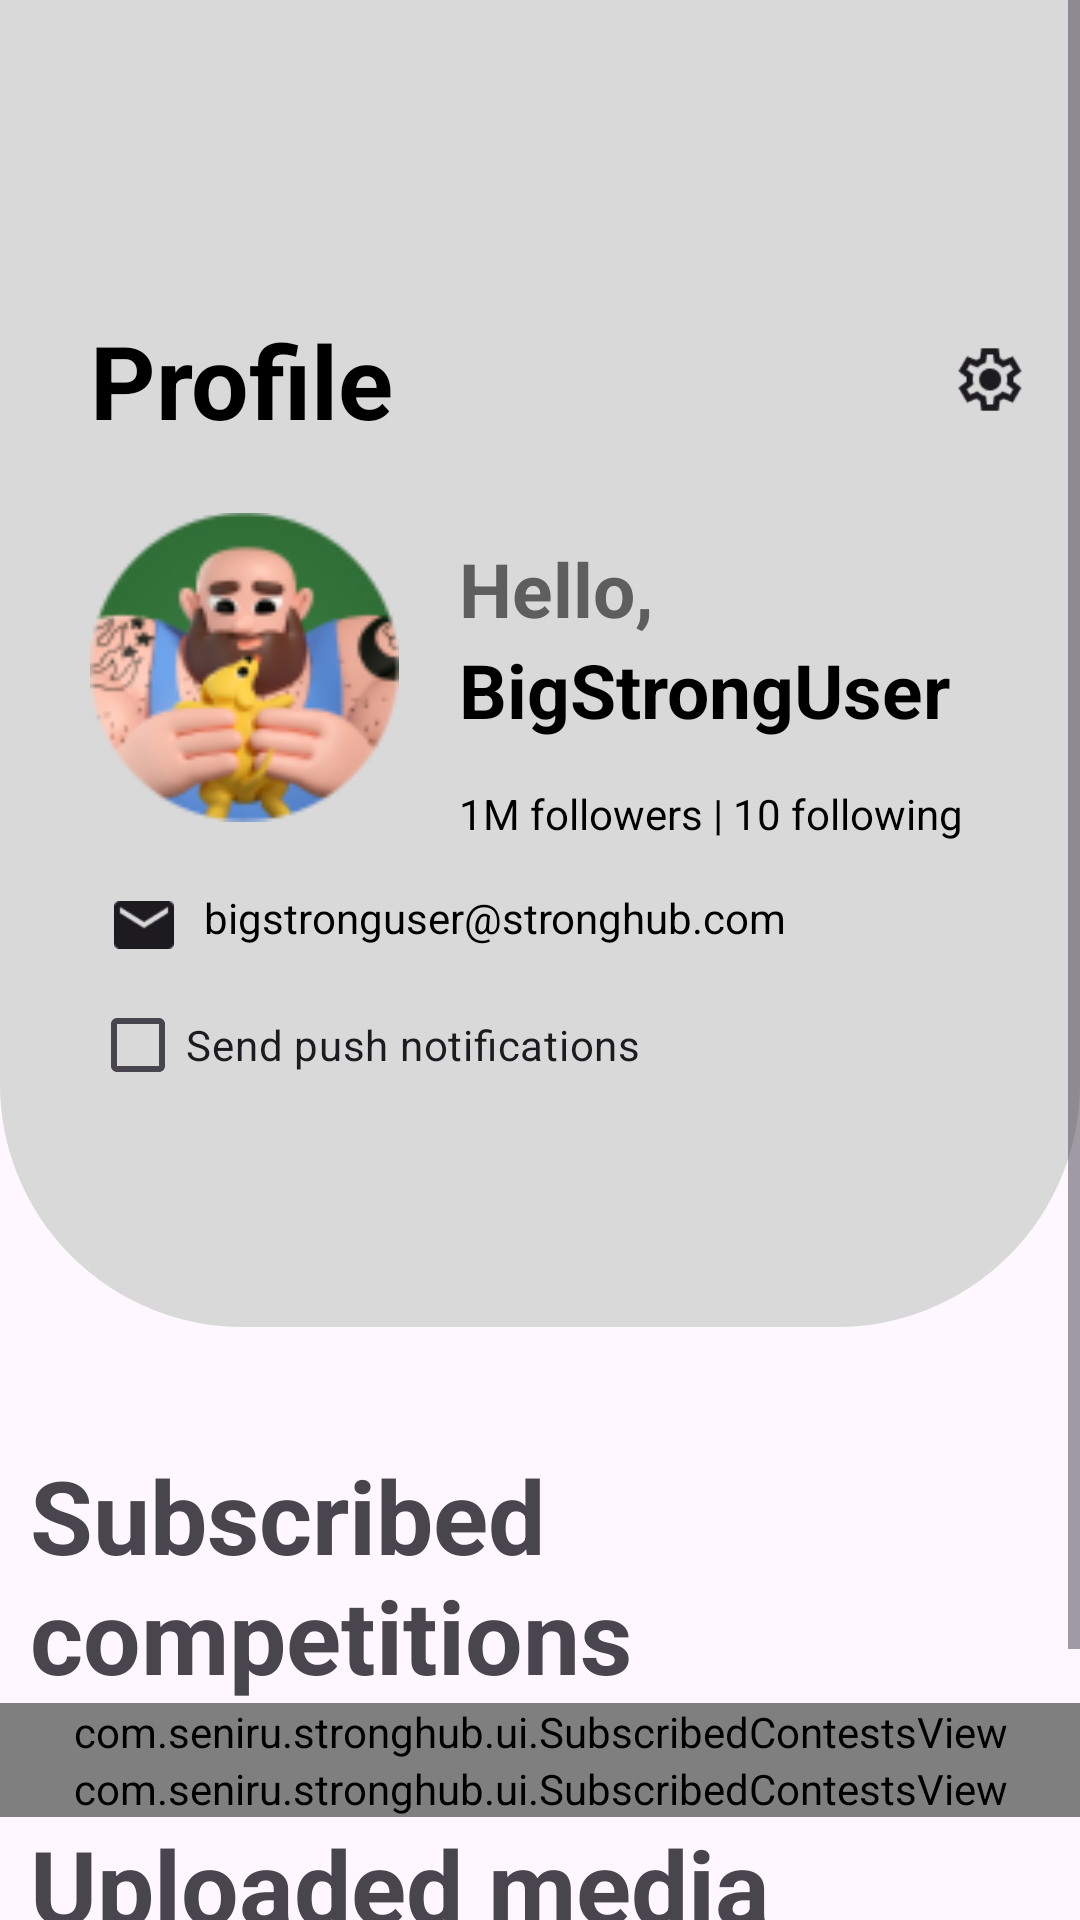

Where icons sit on this 1080*1920 app screen, as rect(x1, y1, x2, y2):
settings: rect(958, 348, 1022, 411)
